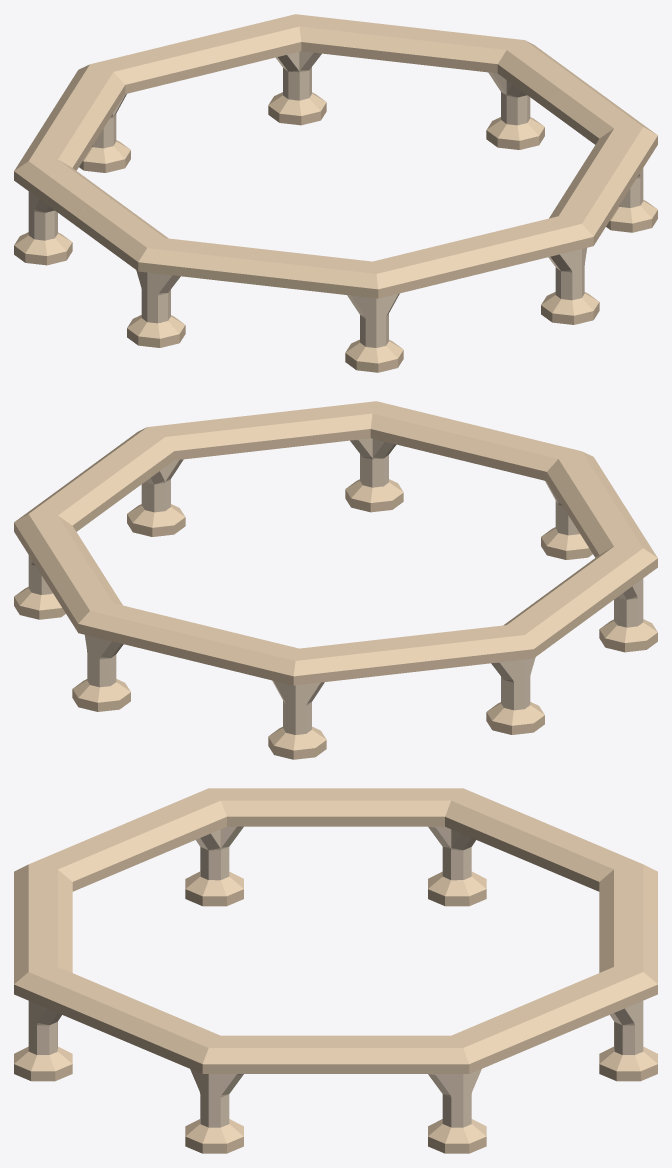
Rendered from LibraryMainRailing-transformed.glb.
3 renders of one model, top to bottom at view 1: azimuth 30°, elevation 25°; view 2: azimuth 150°, elevation 25°; view 3: azimuth 270°, elevation 25°, orthographic. The views are drawn at different scales.
Parts seen in each view (by area): view 1: object1.001; view 2: object1.001; view 3: object1.001.
Part boxes in pixels (x1,y1,x2,y2): object1.001: (14, 14, 657, 372); object1.001: (14, 401, 657, 759); object1.001: (14, 788, 657, 1153).
Size of the model in its own units: 2.2 by 0.375 by 2.2.
